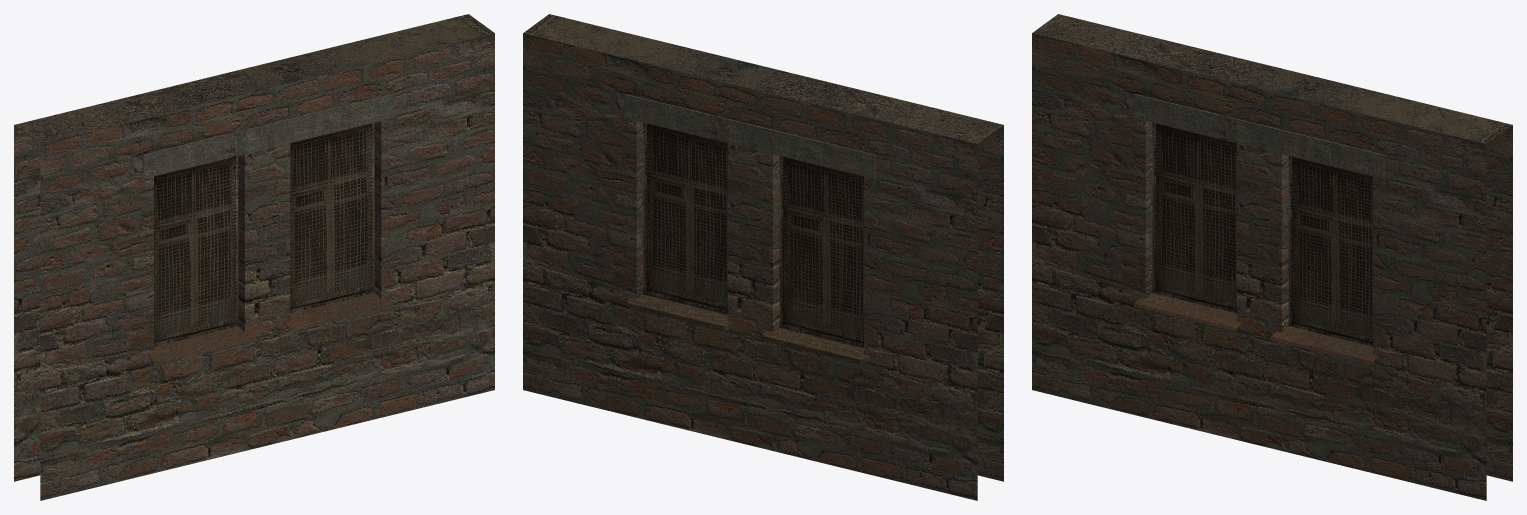
The model's file is windows_hr_2.glb.
3 renders of one model, left to right at view 1: azimuth 30°, elevation 25°; view 2: azimuth 150°, elevation 25°; view 3: azimuth 330°, elevation 25°, orthographic.
Visible parts, largest first — view 1: windows_hr_2; view 2: windows_hr_2; view 3: windows_hr_2.
Part boxes in pixels (left/top/right/bottom): windows_hr_2: left=14, top=14, right=494, bottom=500; windows_hr_2: left=523, top=14, right=1003, bottom=500; windows_hr_2: left=1032, top=14, right=1512, bottom=500.
Bounding box in the file's own units: 4 × 3 × 0.595.
Materials: 6 (6 with a texture image).
